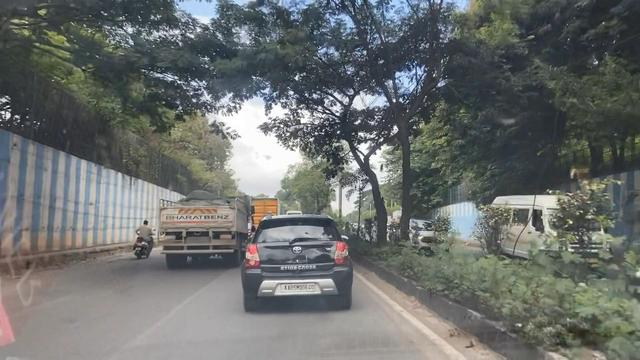HMV: (158, 175, 252, 277)
LMV: (231, 201, 373, 329), (132, 217, 158, 267)
